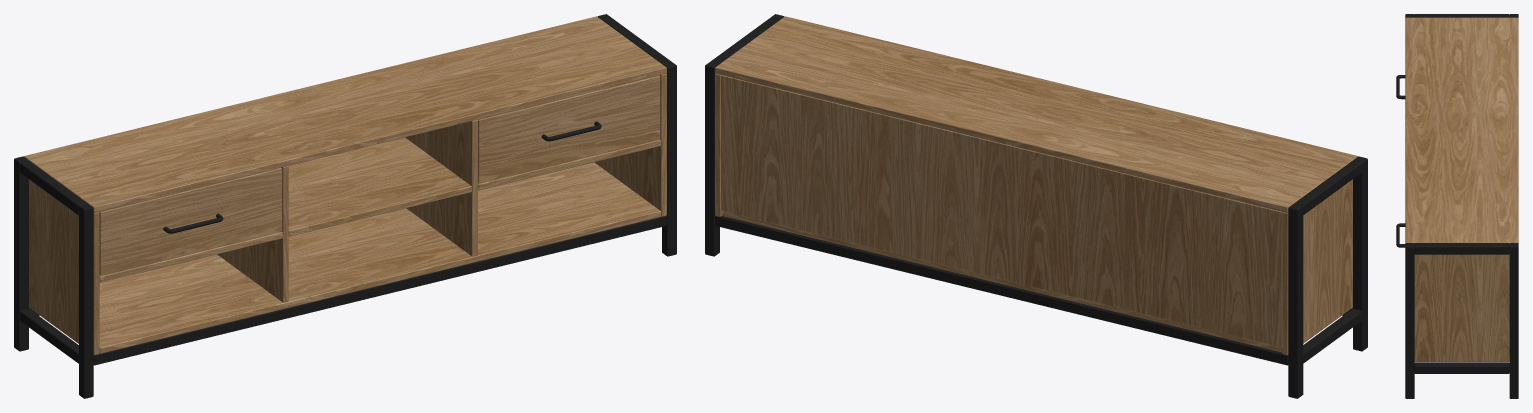
Rendered from mueble_tv_industrial_180.glb.
3 renders of one model, left to right at view 1: azimuth 30°, elevation 25°; view 2: azimuth 150°, elevation 25°; view 3: azimuth 270°, elevation 25°, orthographic. The views are drawn at different scales.
Visible parts, largest first — view 1: mueble_tv_industrial_180; view 2: mueble_tv_industrial_180; view 3: mueble_tv_industrial_180.
Boxes of the visible parts, x1,y1,x2,y2 form: mueble_tv_industrial_180: (14,14,676,398); mueble_tv_industrial_180: (705,14,1367,398); mueble_tv_industrial_180: (1396,14,1518,398).
Size of the model in its own units: 1.8 by 0.55 by 0.3997.
Materials: 2 (1 with a texture image).
